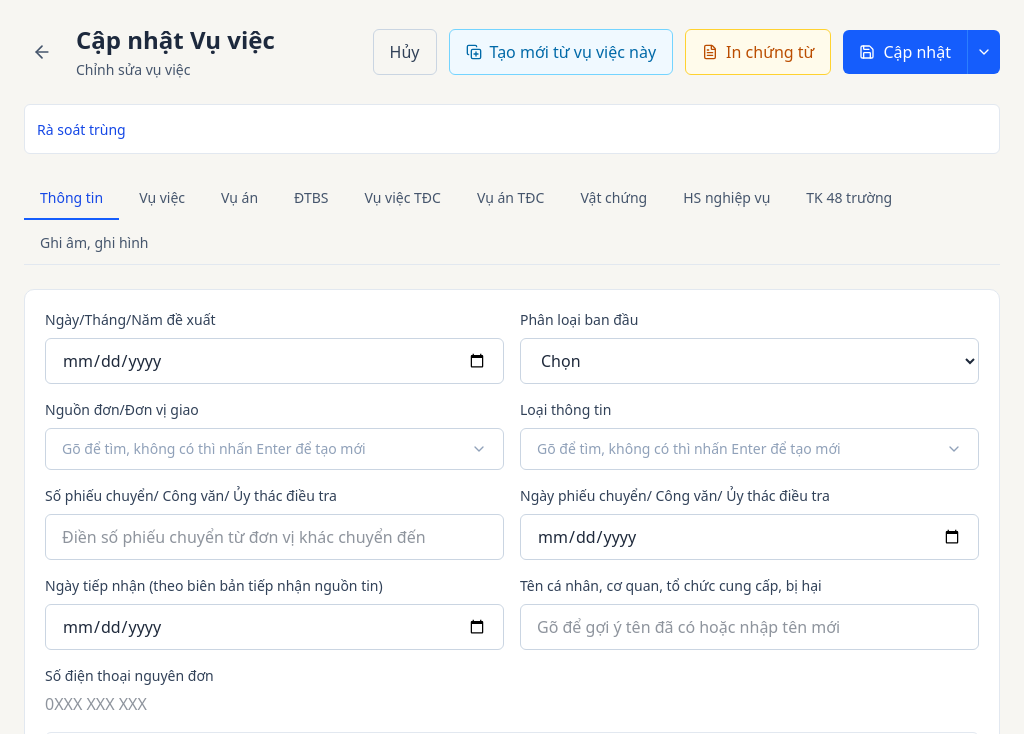
Test: Incident form clone navigation › opens a new editable incident with copied dates and comments
Click the button with test id "btn-clone-incident": {"x": 561, "y": 52} x1=448 y1=29 x2=673 y2=75
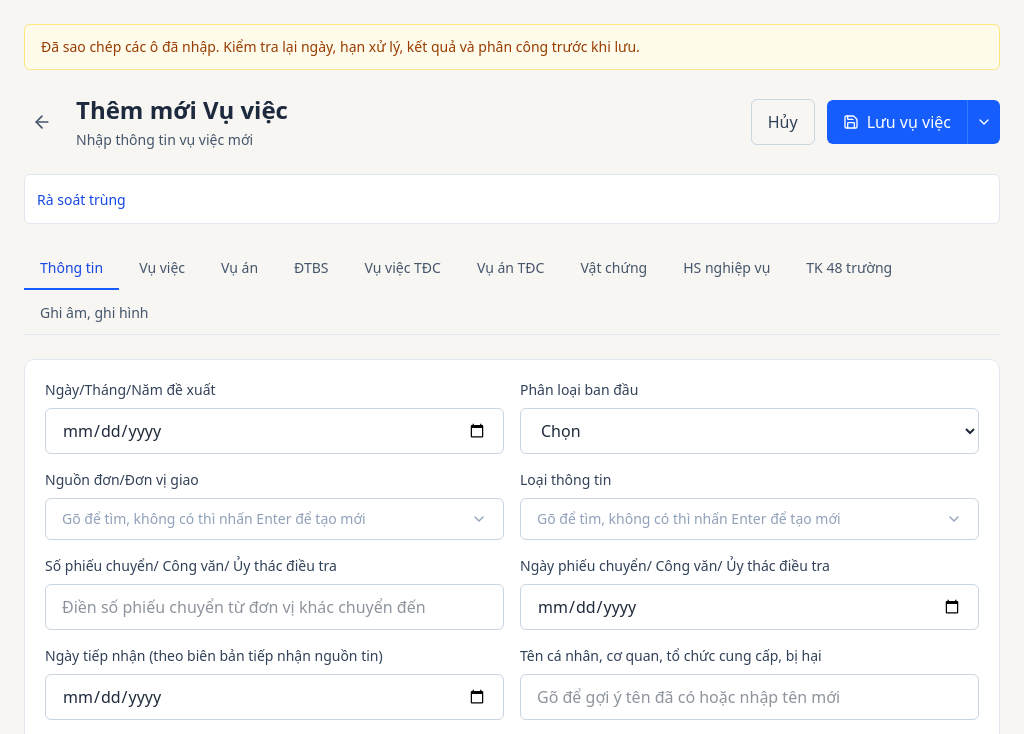
Now the message with test id "incident-clone-review" is shown, box x1=24 y1=24 x2=1000 y2=70
